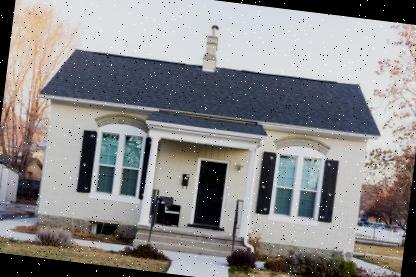door: (188, 156, 232, 234)
stair: (129, 222, 250, 268)
